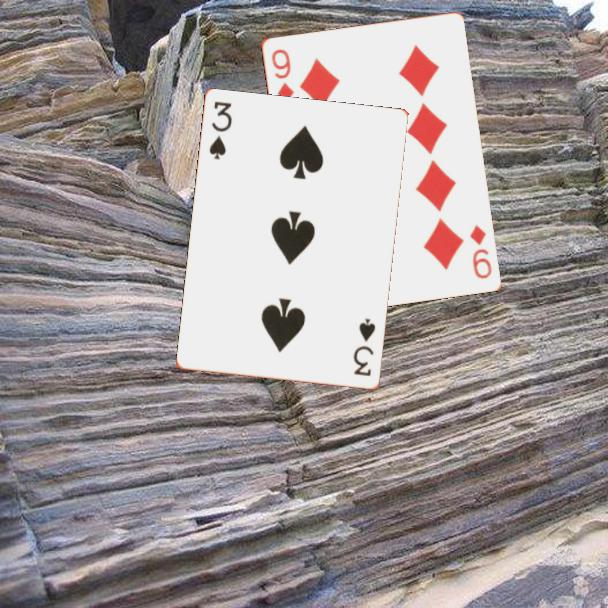d09: (267, 45, 297, 105), (466, 221, 494, 282)
s03: (206, 98, 235, 163), (350, 315, 379, 379)
